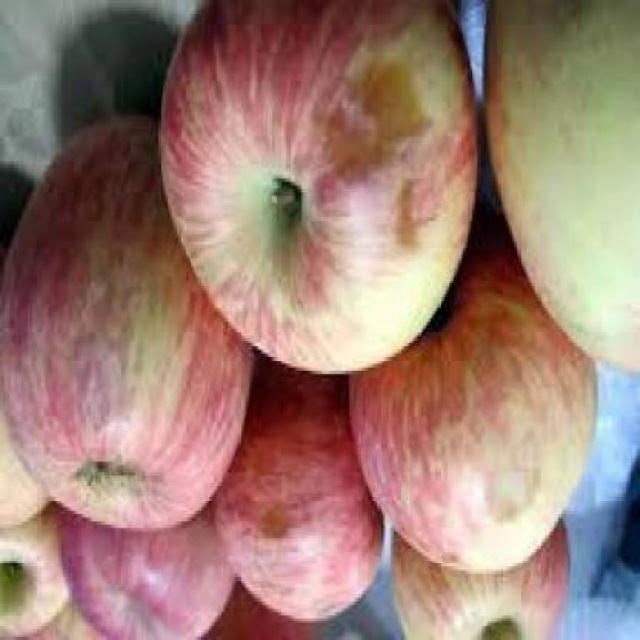BIODEGRADABLE: (155, 3, 477, 382), (0, 119, 249, 538), (347, 224, 596, 578), (479, 4, 638, 378), (209, 360, 382, 626), (54, 486, 237, 639), (386, 520, 568, 638), (0, 384, 58, 535), (0, 514, 69, 638), (201, 583, 317, 639)
